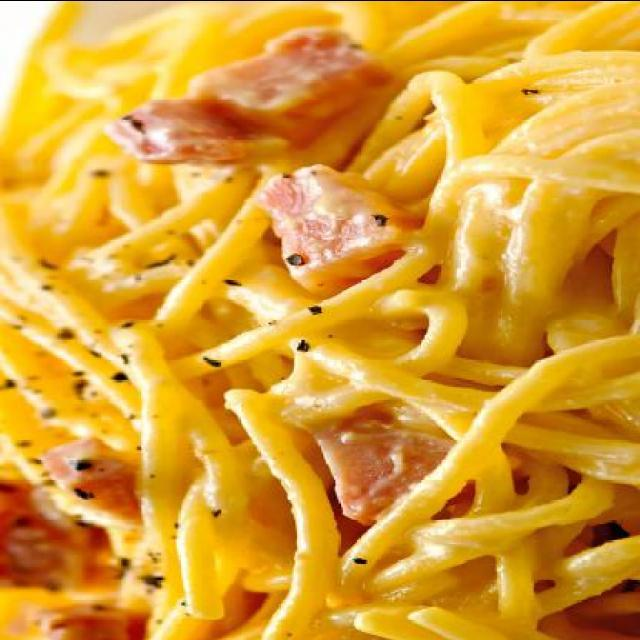Pasta with carbonara sauce: (17, 12, 640, 636)
